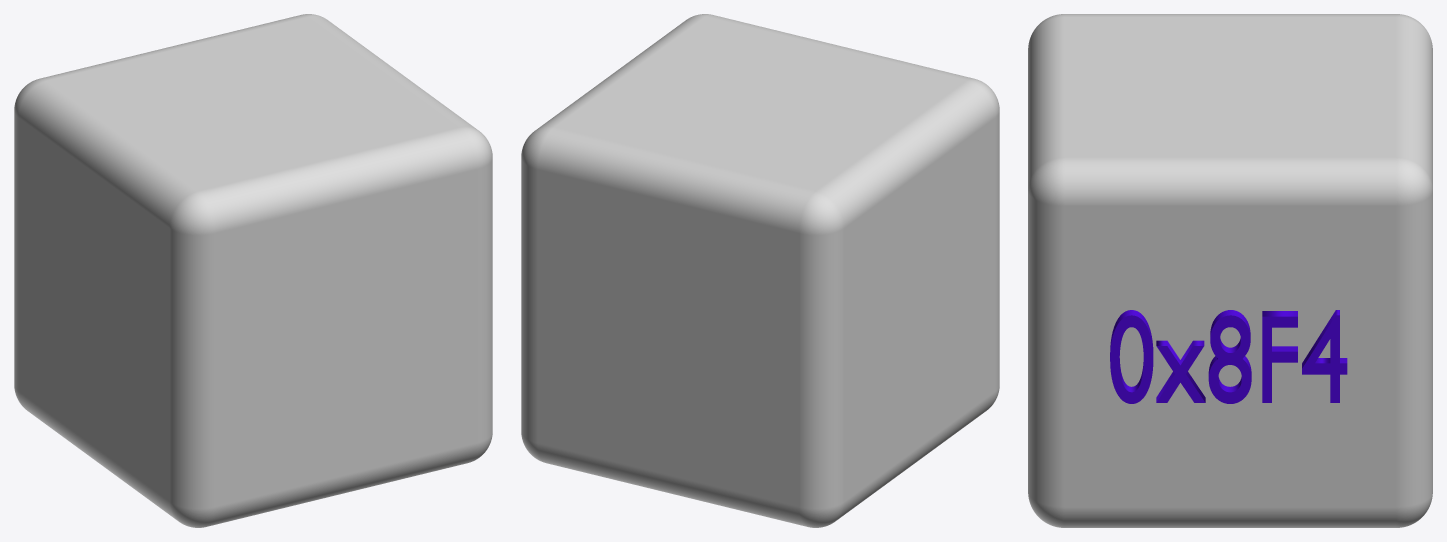
File: Instr44.fbx
The picture shows the model from 3 angles, left to right: view 1: azimuth 30°, elevation 25°; view 2: azimuth 150°, elevation 25°; view 3: azimuth 270°, elevation 25°; orthographic projection. The views are drawn at different scales.
Visible parts, largest first — view 1: Cube; view 2: Cube; view 3: Cube, Text.
Boxes of the visible parts, x1,y1,x2,y2 form: Cube: (14,14,492,527); Cube: (521,14,999,527); Cube: (1028,14,1432,527); Text: (1110,310,1347,403).
Bounding box in the file's own units: 69.29 × 67.15 × 67.15.
